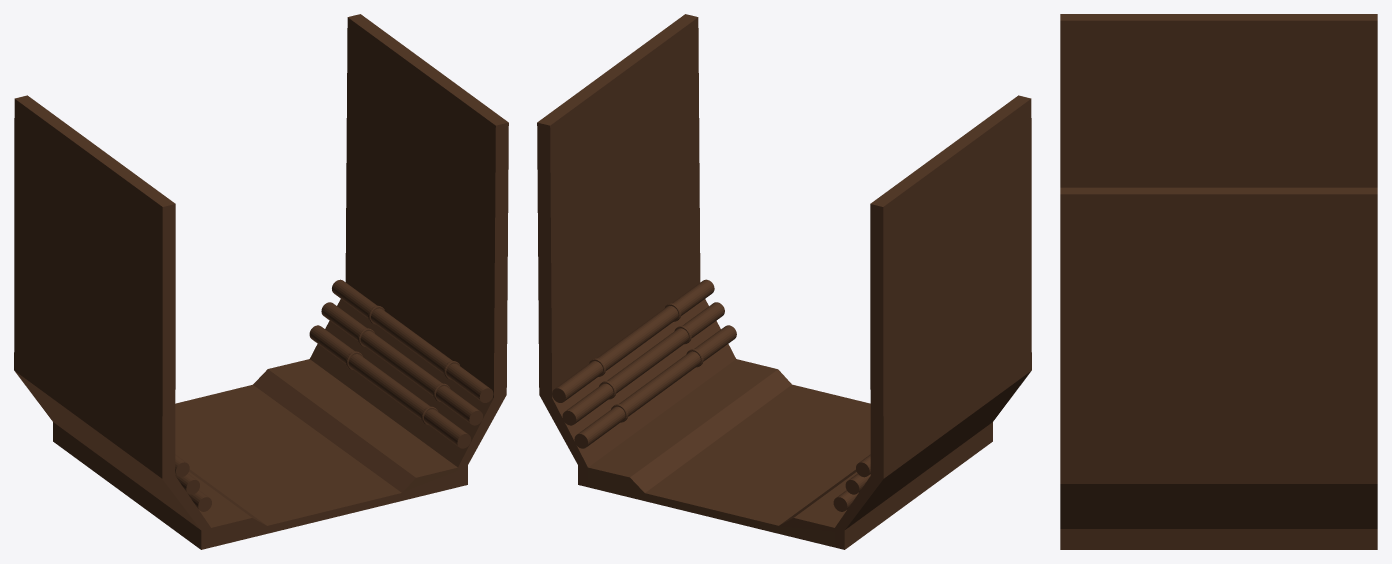
Rendered from wall1.fbx.
3 renders of one model, left to right at view 1: azimuth 30°, elevation 25°; view 2: azimuth 150°, elevation 25°; view 3: azimuth 270°, elevation 25°, orthographic. The views are drawn at different scales.
Parts seen in each view (by area): view 1: Cube.012; view 2: Cube.012; view 3: Cube.012.
Part boxes in pixels (<box>): Cube.012: <box>14,14,508,549</box>; Cube.012: <box>537,14,1031,549</box>; Cube.012: <box>1060,14,1377,549</box>.
Size of the model in its own units: 7952 by 7729 by 5896.
